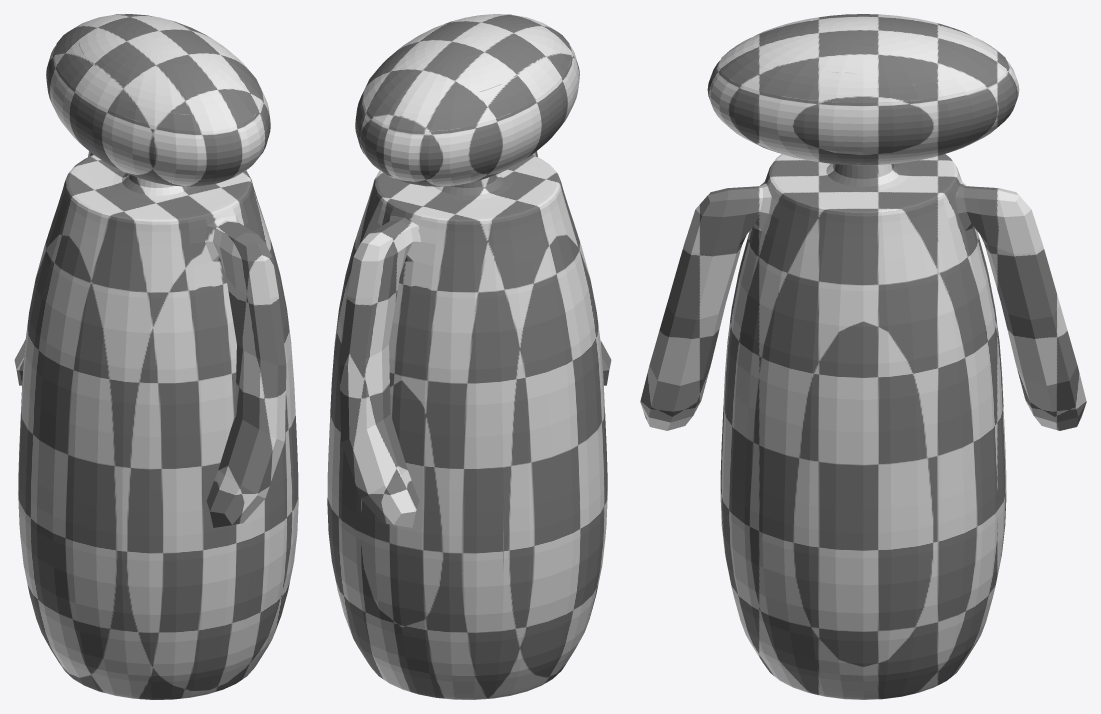
The model's file is seeker_standing.glb.
The picture shows the model from 3 angles, left to right: view 1: azimuth 30°, elevation 25°; view 2: azimuth 150°, elevation 25°; view 3: azimuth 270°, elevation 25°; orthographic projection.
Parts seen in each view (by area): view 1: seeker_standing; view 2: seeker_standing; view 3: seeker_standing.
Part boxes in pixels (x1=…): seeker_standing: x1=14, y1=14, x2=298, y2=699; seeker_standing: x1=327, y1=14, x2=611, y2=699; seeker_standing: x1=640, y1=14, x2=1086, y2=699.
Bounding box in the file's own units: 0.7153 × 1.75 × 1.12.
1 material, 1 textured.
